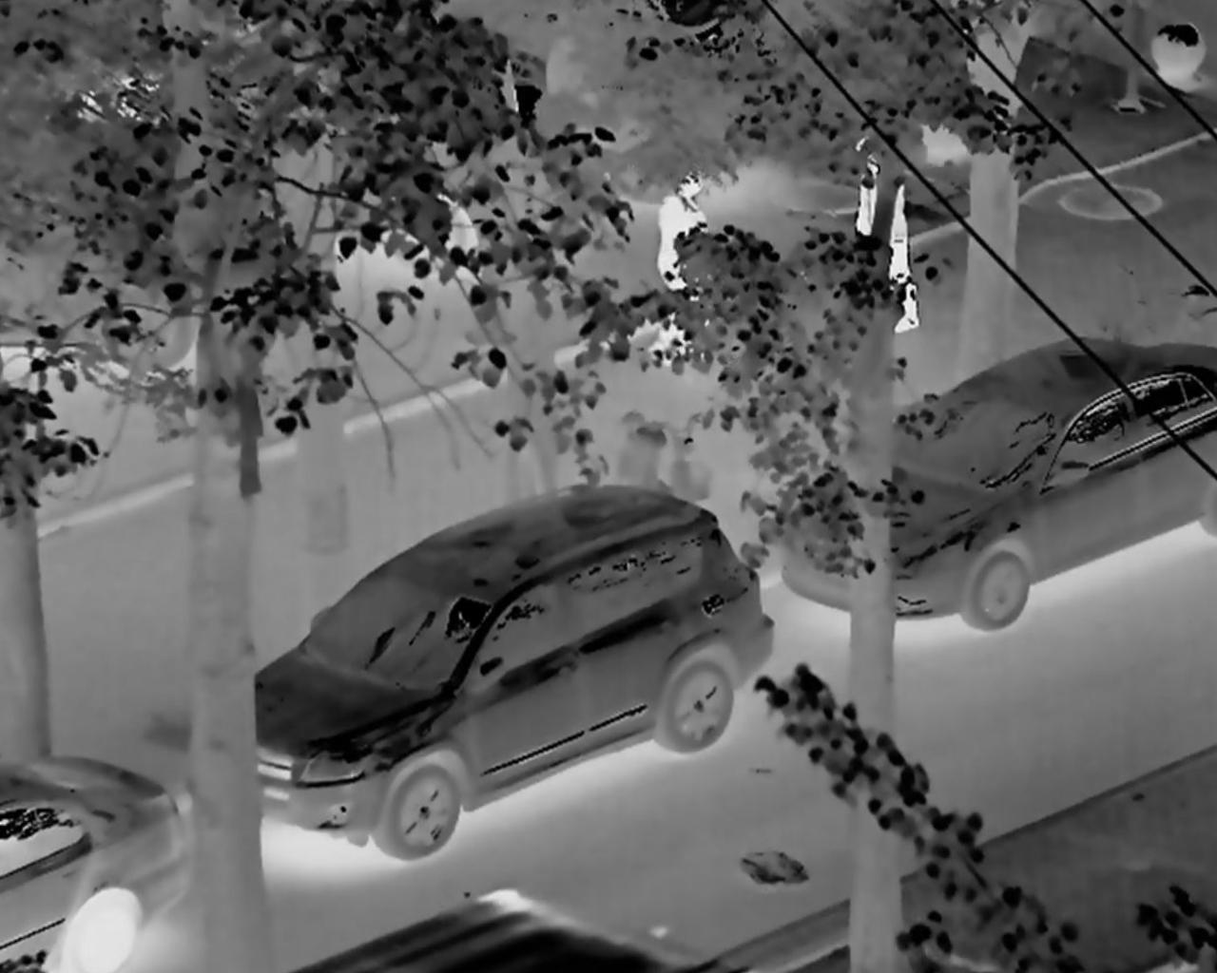person: (651, 169, 722, 341), (853, 142, 913, 330)
